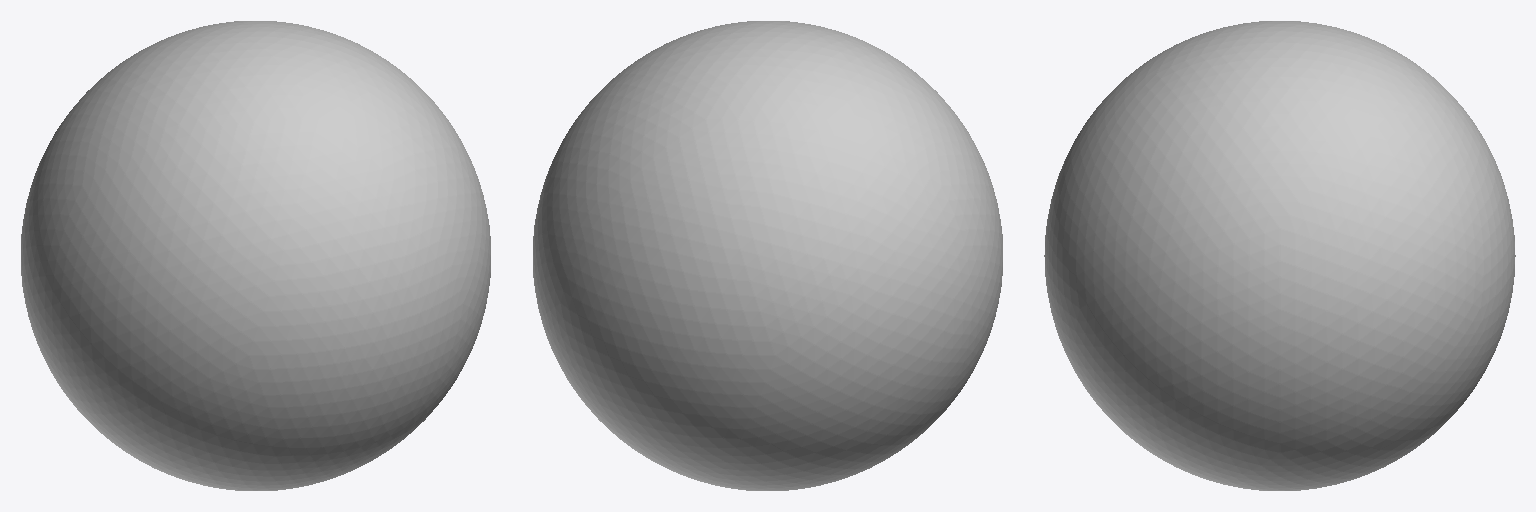
The model's file is planet.obj.
3 renders of one model, left to right at view 1: azimuth 30°, elevation 25°; view 2: azimuth 150°, elevation 25°; view 3: azimuth 270°, elevation 25°, orthographic.
Size of the model in its own units: 47.54 by 47.54 by 47.54.